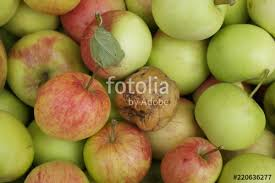apple: (6, 34, 90, 100), (82, 13, 158, 81), (195, 87, 270, 145), (38, 75, 113, 131), (147, 35, 208, 96), (211, 28, 273, 86), (86, 123, 148, 177), (156, 134, 222, 181), (151, 5, 219, 40)
damaged_apple: (111, 66, 189, 131)
